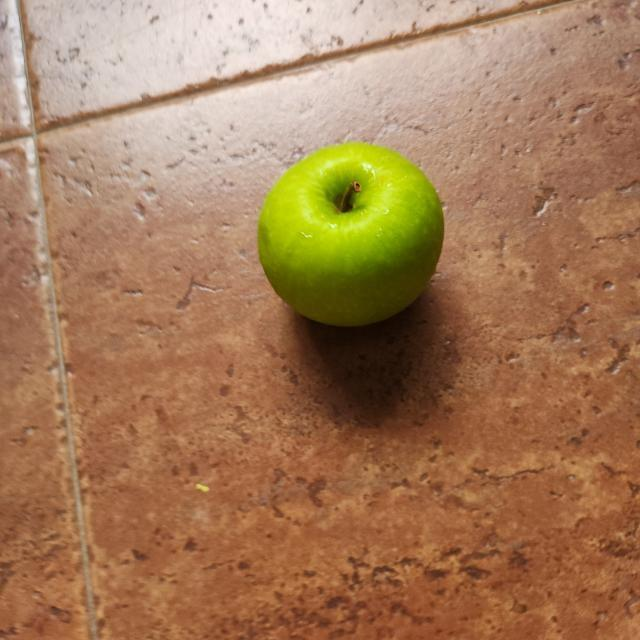apple: (252, 139, 450, 332)
